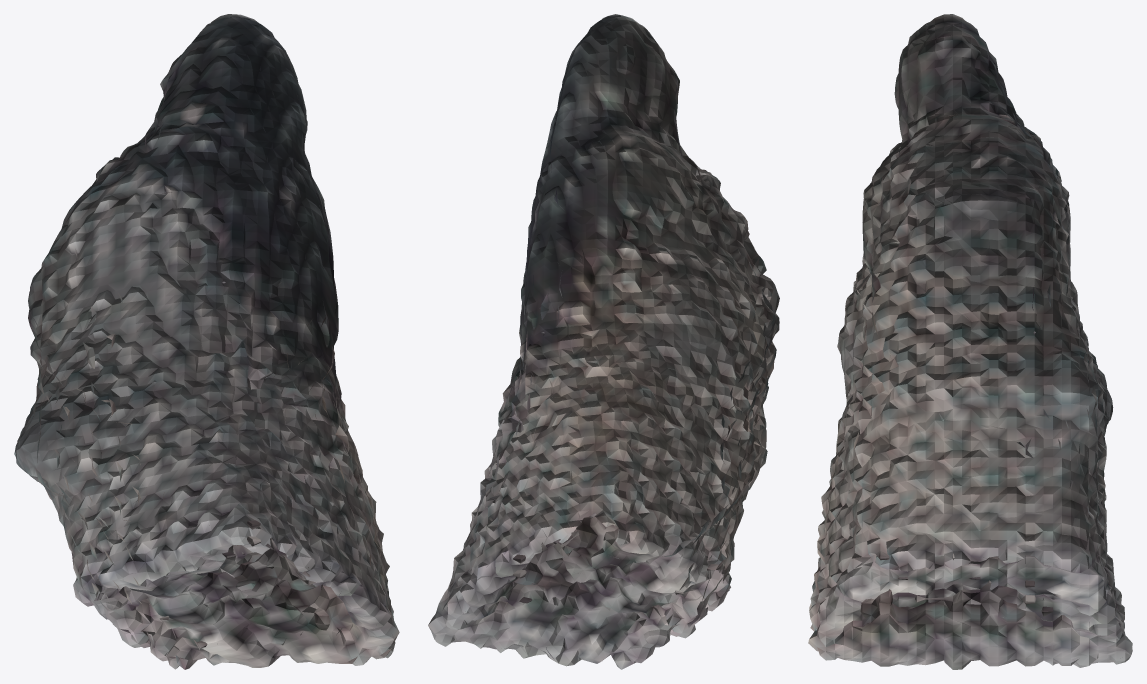
The model's file is PclIvJotHUeGUOjqk7G5-draft.glb.
3 views of the same model, side by side, from view 1: azimuth 30°, elevation 25°; view 2: azimuth 150°, elevation 25°; view 3: azimuth 270°, elevation 25° (orthographic). The views are drawn at different scales.
Parts seen in each view (by area): view 1: world; view 2: world; view 3: world.
Boxes of the visible parts, left/top/right/bottom form: world: left=14, top=14, right=399, bottom=669; world: left=428, top=14, right=779, bottom=669; world: left=808, top=14, right=1132, bottom=669.
Size of the model in its own units: 0.5168 by 0.9993 by 0.4899.
